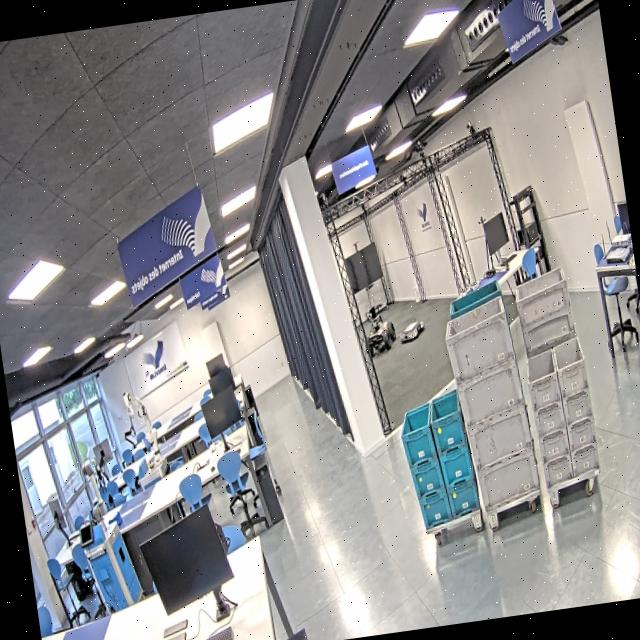Box3G: (514, 268, 575, 330), (519, 302, 579, 356)
Box4G: (440, 294, 518, 384), (453, 357, 528, 432), (463, 398, 537, 470), (476, 444, 542, 514)
Box8G: (522, 348, 562, 413), (552, 335, 590, 399), (526, 395, 568, 443), (532, 429, 572, 467), (560, 388, 596, 430), (538, 455, 576, 492), (564, 416, 599, 454), (570, 443, 604, 482)
BoxB8: (397, 403, 442, 467), (424, 404, 468, 458), (443, 472, 482, 520), (436, 447, 477, 491), (408, 460, 446, 501), (418, 491, 454, 533)
